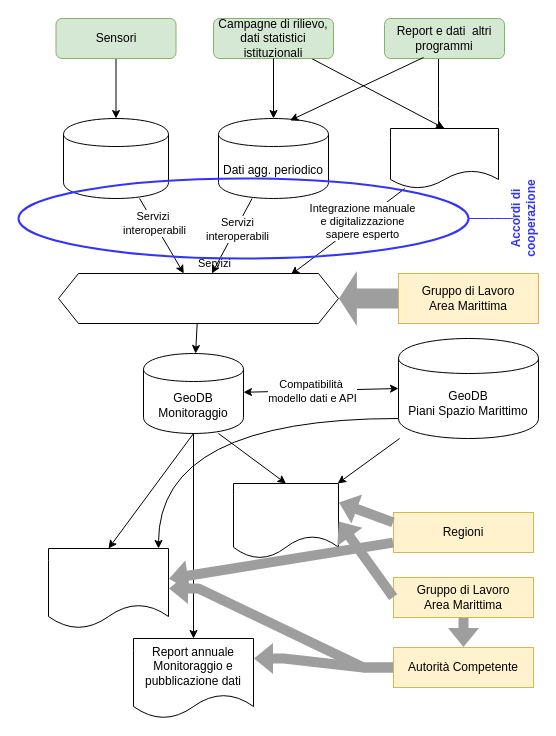
The diagram is 556 pixels wide and 736 high, and some of its shapes have lost their labels. Here are the shapes that lost their labels. From the top down, the box of each, then its label:
(62, 118, 168, 198): Dati in flusso continuo
(390, 128, 498, 188): Documentazione
(58, 272, 338, 324): Spazializzazione e integrazione
(232, 482, 338, 558): Report singole aree marittime o subaree
(48, 548, 168, 628): Report tematici, mappe
